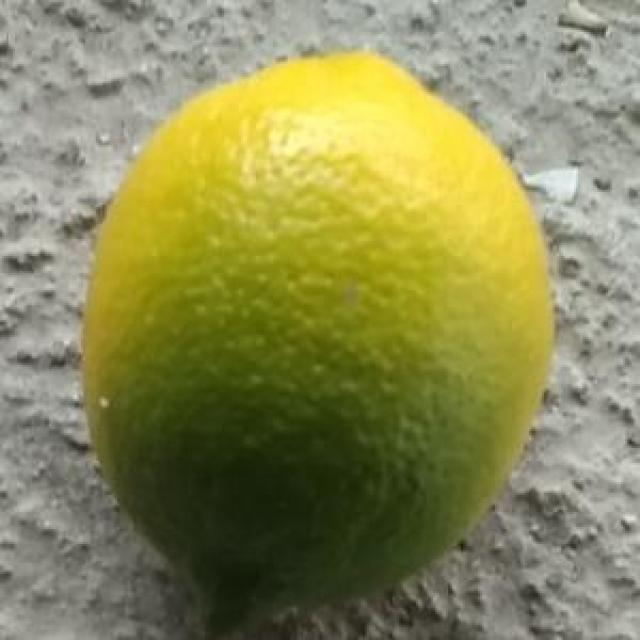lemon: (80, 54, 550, 638)
